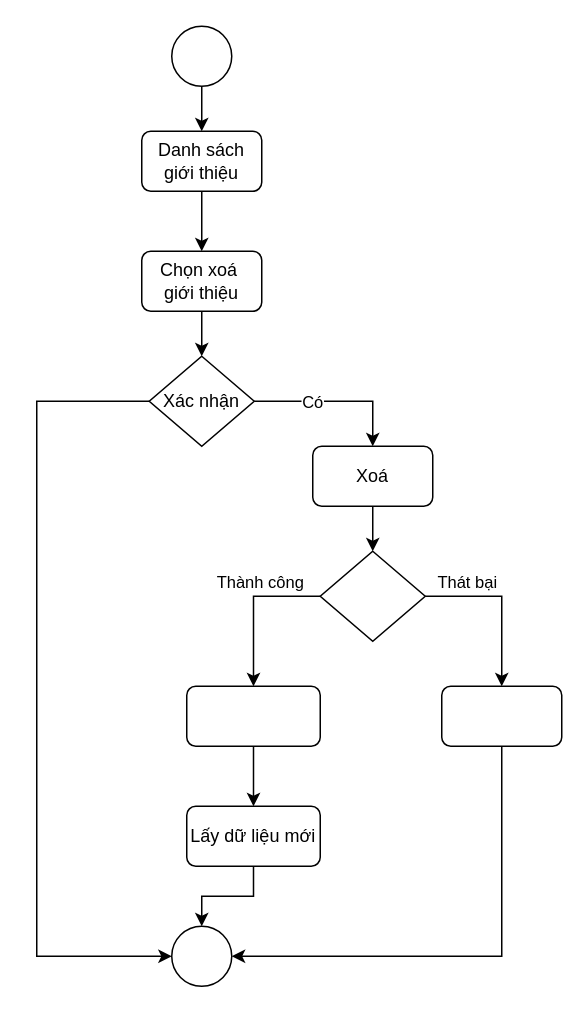
Image size: 588x1013. Some labels were removed from this diagram. Here are the shapes that lost their labels. From the top down, the centre of each, then its label:
the point at 252,715: Thông báo xoá thành công
the point at 501,715: Thông báo xoá thất bại
